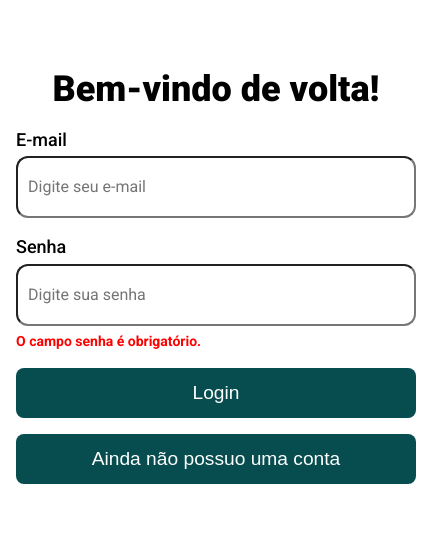
Test case: Login Component › switches to register form when "Ainda não possuo uma conta" is clicked
Click the button "Ainda não possuo uma conta": (216, 459) [16, 434, 416, 484]
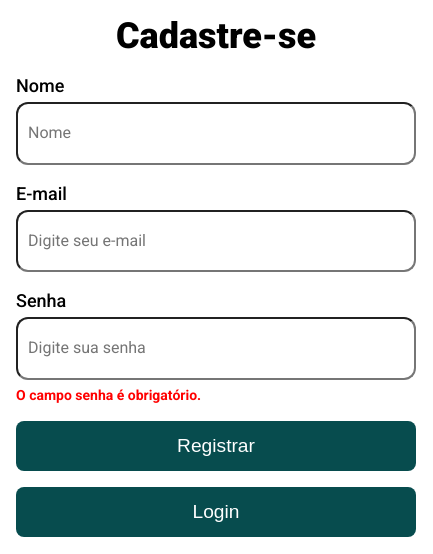
Result: the text "Cadastre-se" is shown at [116, 17, 316, 55]
Result: the text "Nome" is shown at [16, 75, 64, 96]
Result: the button "Registrar" is shown at [16, 421, 416, 471]
